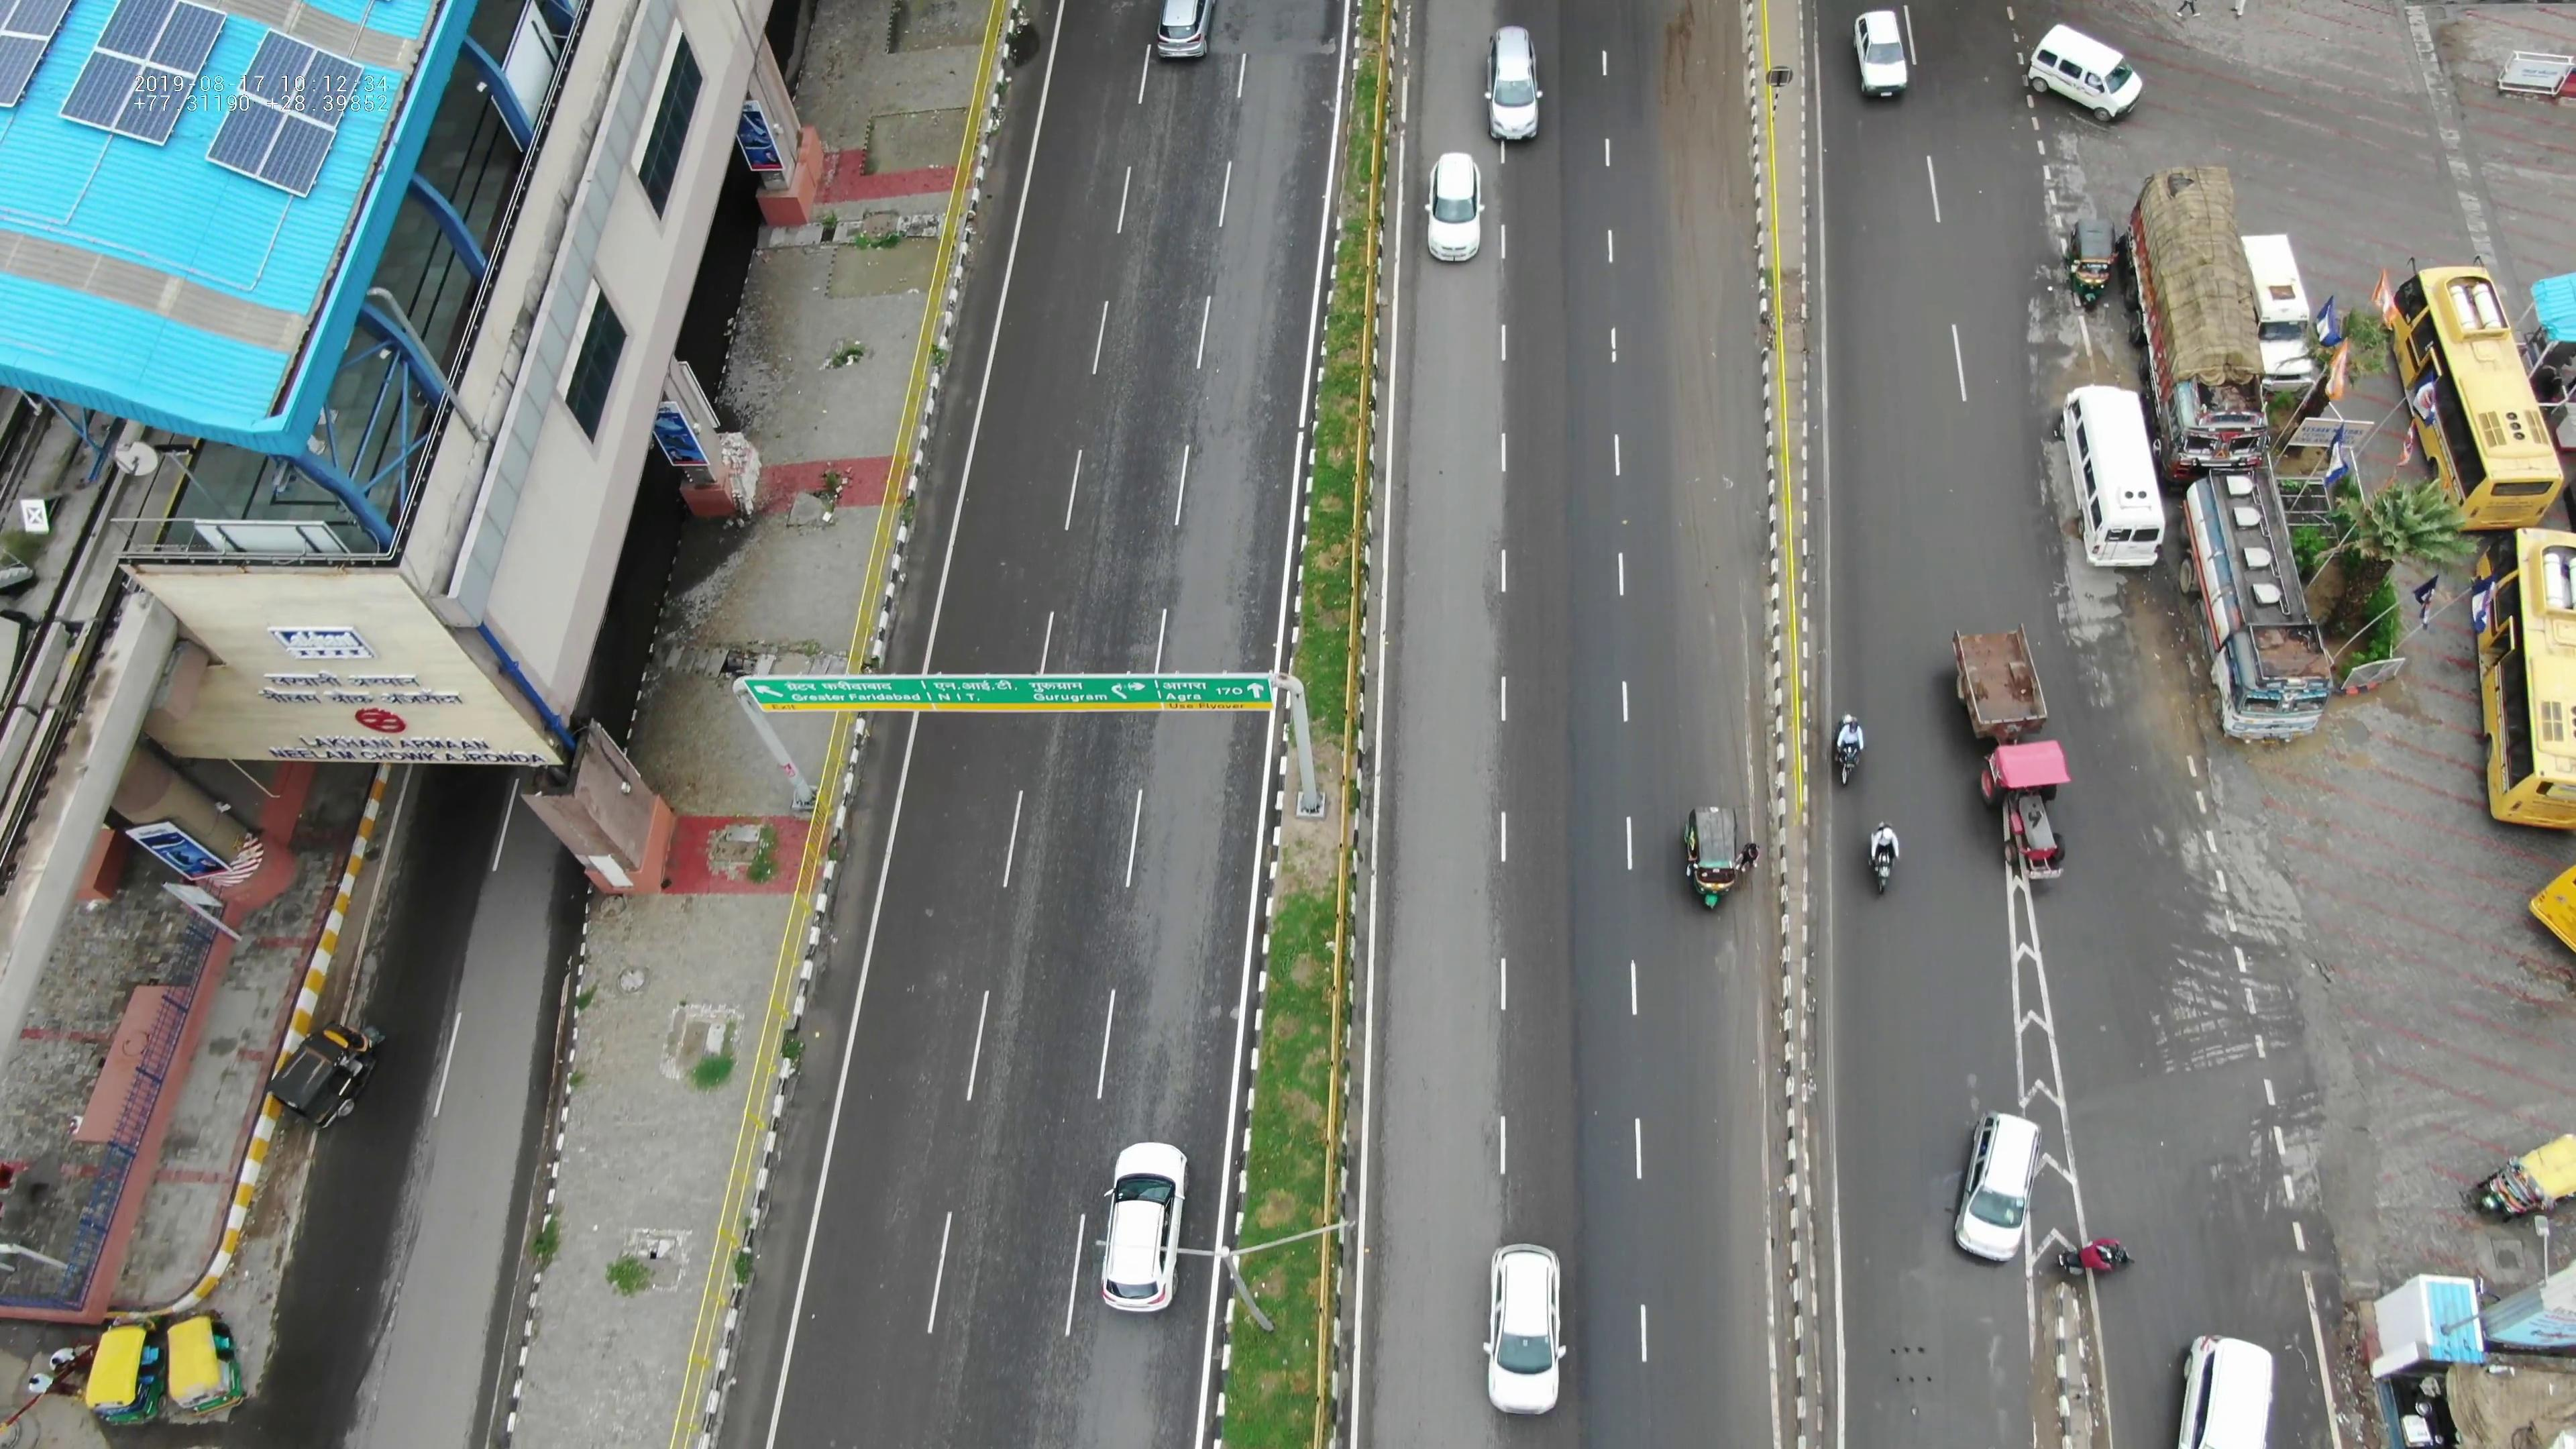Muddy_road: (1635, 34, 1743, 488), (1672, 513, 1760, 801)
